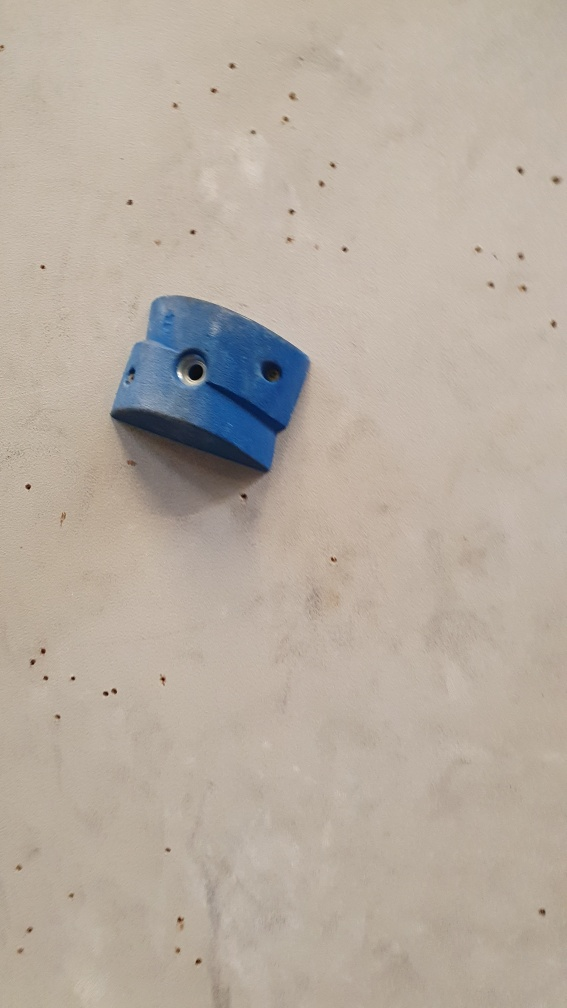Pinch: (106, 290, 314, 481)
